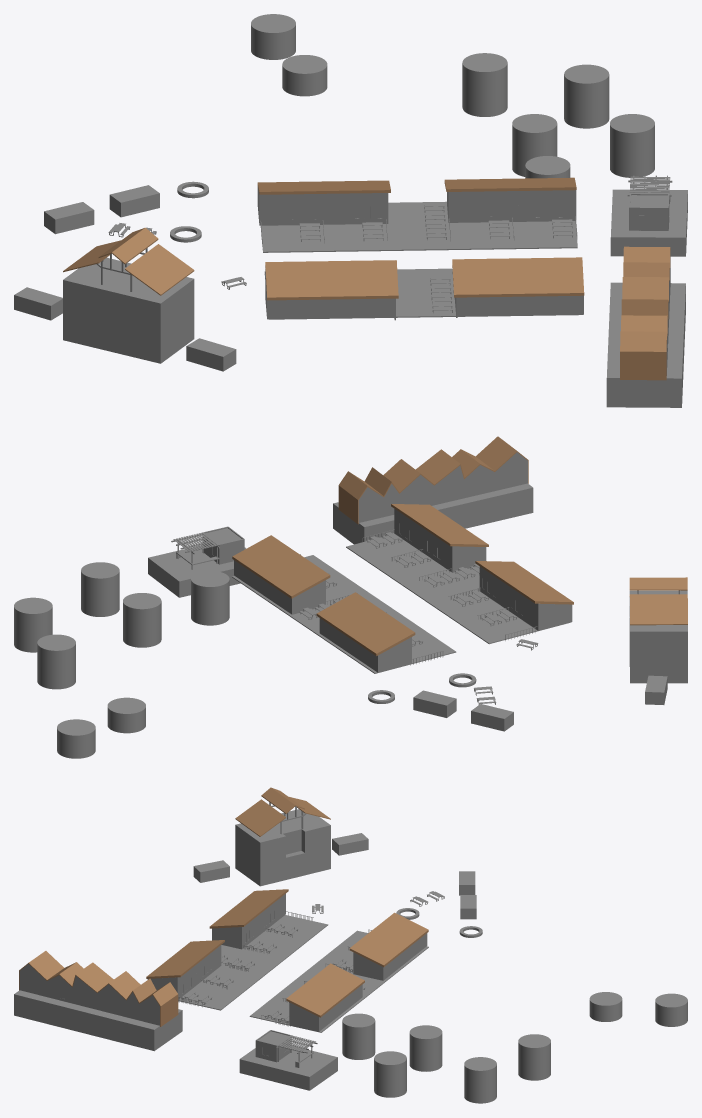
File: 03_Community_Center.glb
The picture shows the model from 3 angles, top to bottom: view 1: azimuth 30°, elevation 25°; view 2: azimuth 150°, elevation 25°; view 3: azimuth 270°, elevation 25°; orthographic projection. The views are drawn at different scales.
Parts seen in each view (by area): view 1: 03_Community_Center; view 2: 03_Community_Center; view 3: 03_Community_Center.
Boxes of the visible parts, bbox=[...] form: 03_Community_Center: bbox=[14, 14, 687, 407]; 03_Community_Center: bbox=[14, 436, 687, 758]; 03_Community_Center: bbox=[14, 787, 687, 1103].
Size of the model in its own units: 104 by 18.13 by 123.
